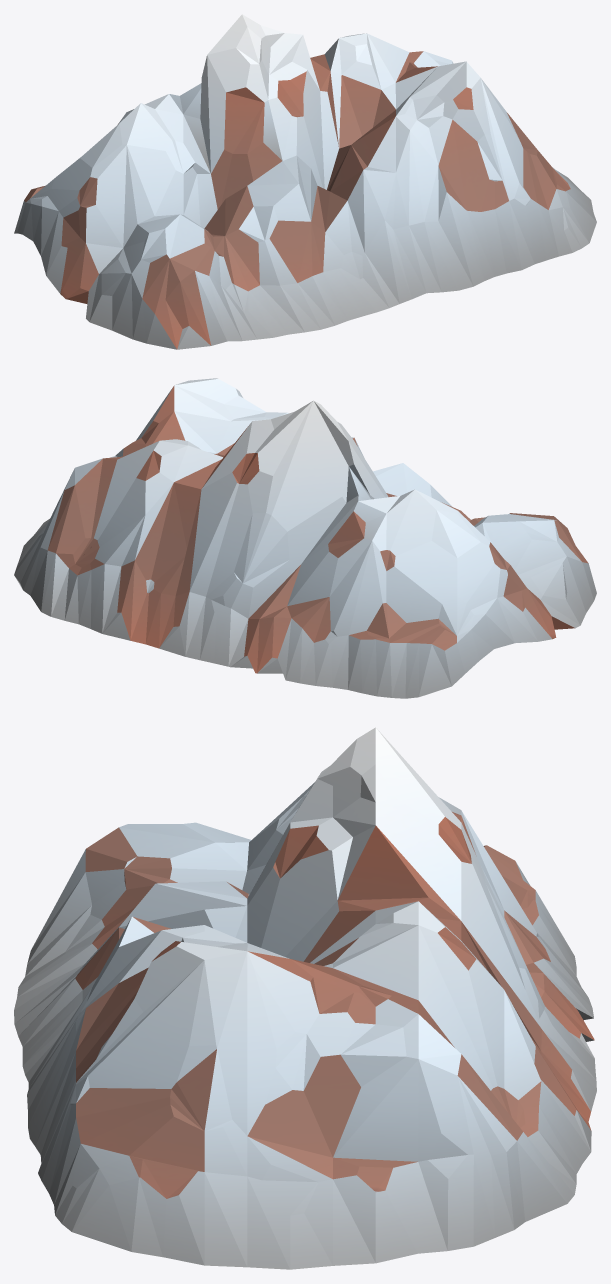
File: Snowy_Mountains_002.FBX
3 views of the same model, one above another, from view 1: azimuth 30°, elevation 25°; view 2: azimuth 150°, elevation 25°; view 3: azimuth 270°, elevation 25° (orthographic). The views are drawn at different scales.
Parts seen in each view (by area): view 1: Snowy_Mountains_002; view 2: Snowy_Mountains_002; view 3: Snowy_Mountains_002.
Boxes of the visible parts, left/top/right/bottom form: Snowy_Mountains_002: left=14, top=14, right=596, bottom=349; Snowy_Mountains_002: left=14, top=378, right=596, bottom=698; Snowy_Mountains_002: left=14, top=727, right=596, bottom=1269.
Bounding box in the file's own units: 2405 × 987 × 1589.
Materials: 1 (1 with a texture image).
